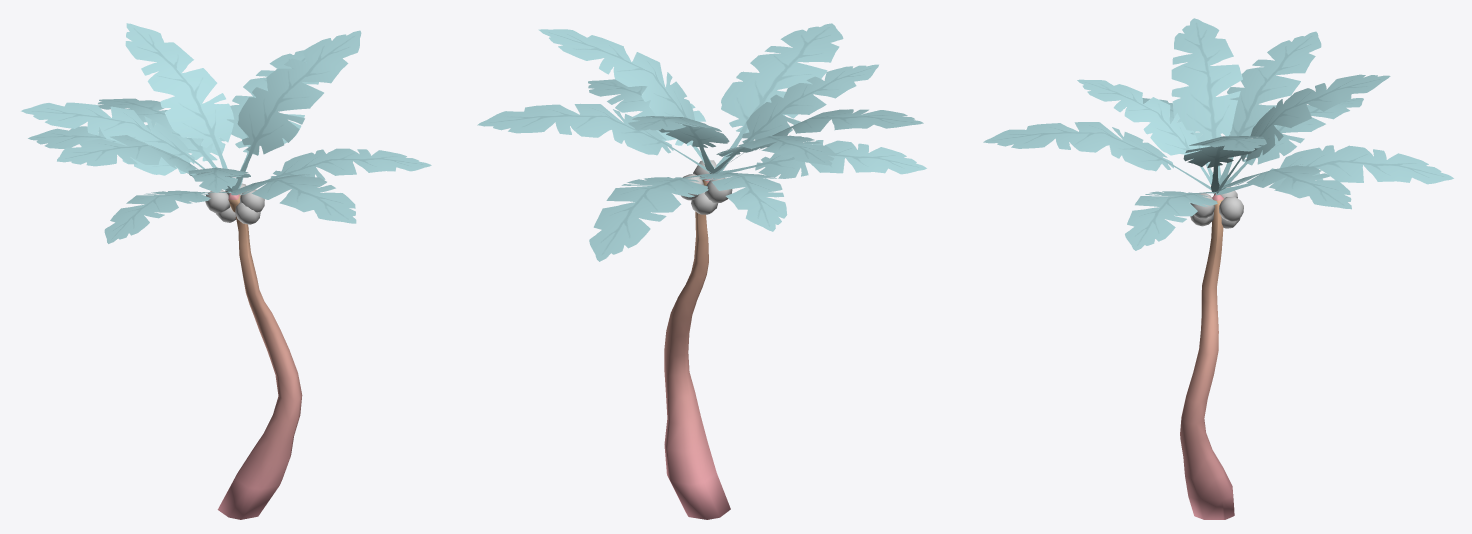
Rendered from M.coconut_tree-v1.3.fbx.
The picture shows the model from 3 angles, left to right: view 1: azimuth 30°, elevation 25°; view 2: azimuth 150°, elevation 25°; view 3: azimuth 270°, elevation 25°; orthographic projection. The views are drawn at different scales.
Parts seen in each view (by area): view 1: palmtree_04.009; view 2: palmtree_04.009; view 3: palmtree_04.009.
Boxes of the visible parts, x1,y1,x2,y2 form: palmtree_04.009: (21, 23, 431, 519); palmtree_04.009: (477, 23, 926, 519); palmtree_04.009: (983, 18, 1453, 519).
Bounding box in the file's own units: 1017 × 1140 × 1162.
